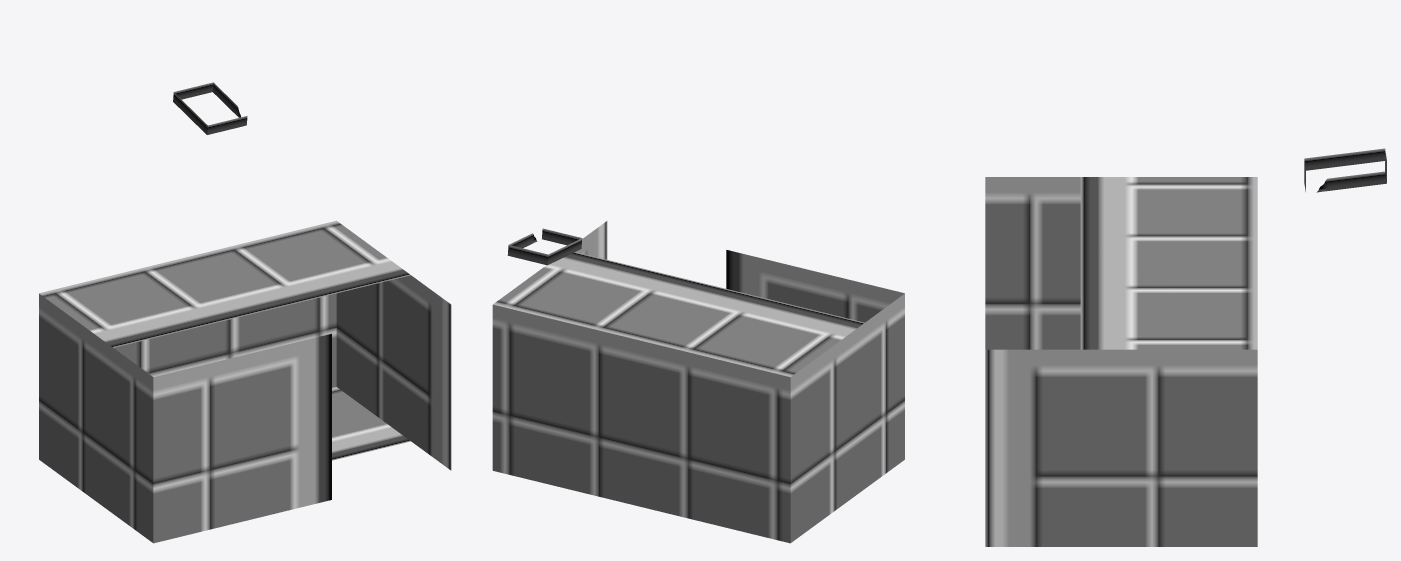
The model's file is embryo_calcification_machine.obj.
The picture shows the model from 3 angles, left to right: view 1: azimuth 30°, elevation 25°; view 2: azimuth 150°, elevation 25°; view 3: azimuth 270°, elevation 25°; orthographic projection. The views are drawn at different scales.
Visible parts, largest first — view 1: machine; view 2: machine; view 3: machine.
Boxes of the visible parts, left/top/right/bottom form: machine: left=39, top=82, right=451, bottom=543; machine: left=492, top=221, right=904, bottom=543; machine: left=985, top=148, right=1386, bottom=546.
Size of the model in its own units: 1.32 by 1.18 by 0.9845.
